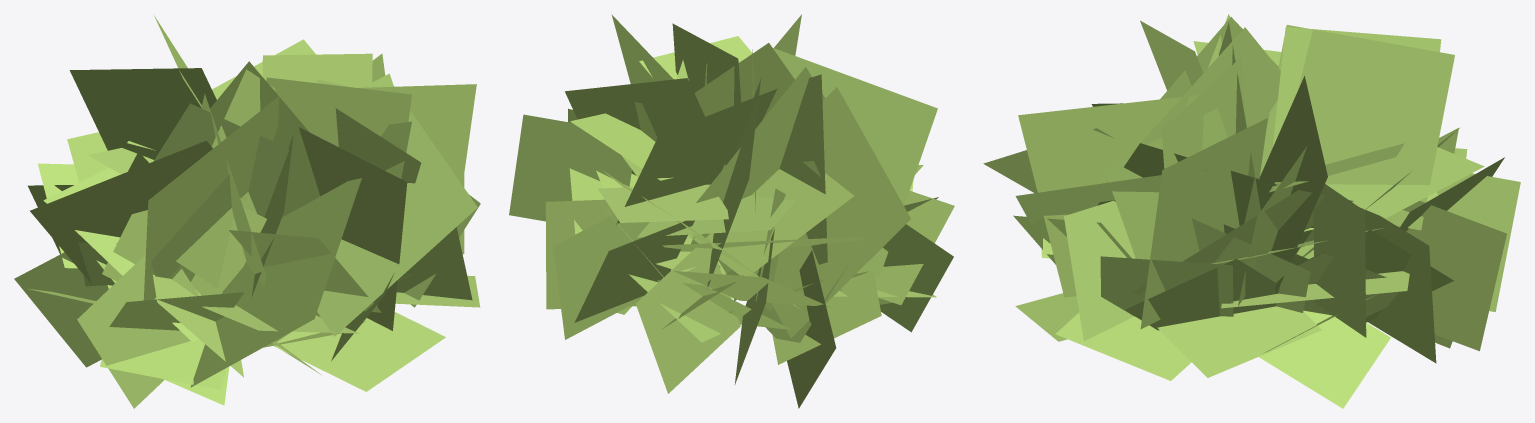
The model's file is leaves_standardnormals_01.FBX.
The picture shows the model from 3 angles, left to right: view 1: azimuth 30°, elevation 25°; view 2: azimuth 150°, elevation 25°; view 3: azimuth 270°, elevation 25°; orthographic projection. The views are drawn at different scales.
Parts seen in each view (by area): view 1: tree_leaves; view 2: tree_leaves; view 3: tree_leaves.
Boxes of the visible parts, x1=… form: tree_leaves: x1=14, y1=15, x2=480, y2=408; tree_leaves: x1=509, y1=14, x2=954, y2=408; tree_leaves: x1=983, y1=14, x2=1520, y2=408.
Bounding box in the file's own units: 396 × 428 × 304.
